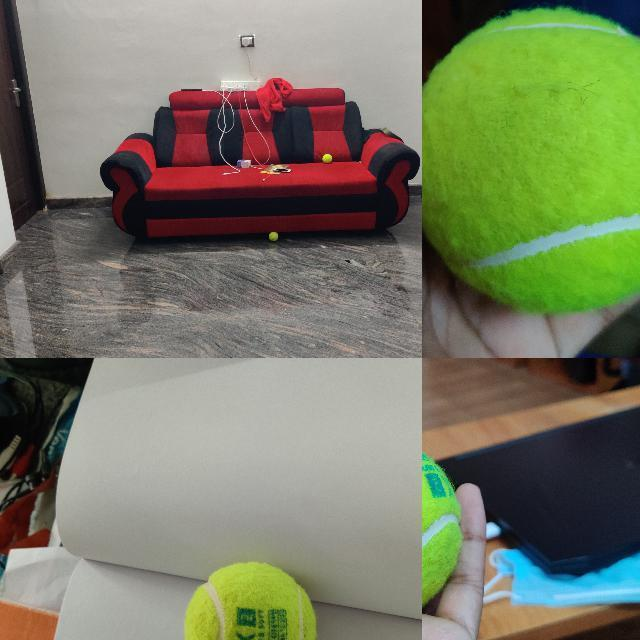tennis-ball: (422, 7, 639, 312), (183, 560, 317, 639), (422, 432, 461, 624), (268, 231, 278, 241), (322, 154, 332, 163)
